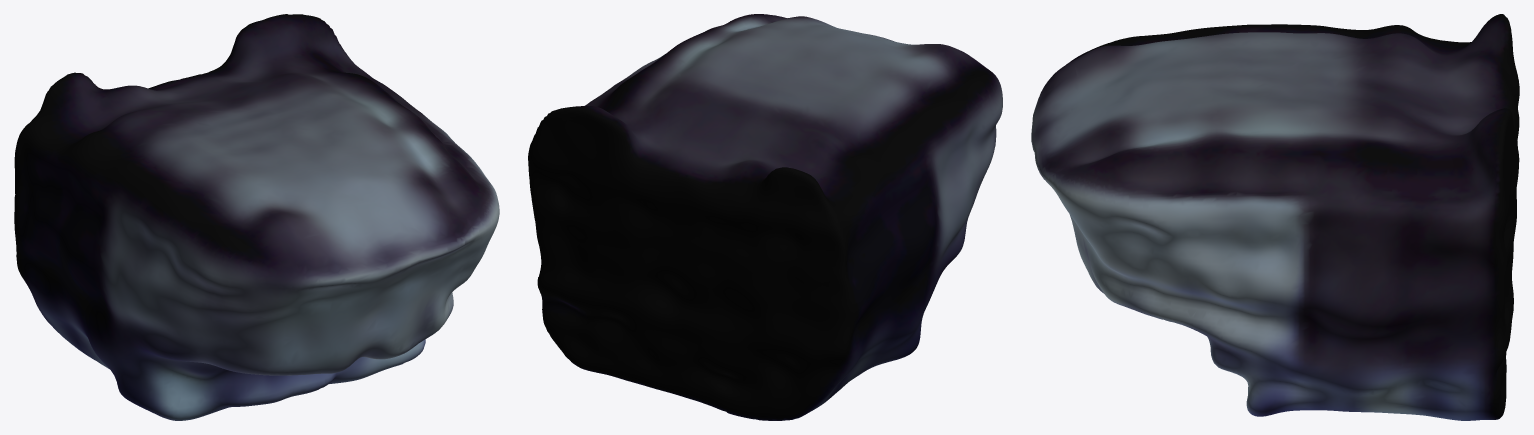
The model's file is backpack.glb.
3 views of the same model, side by side, from view 1: azimuth 30°, elevation 25°; view 2: azimuth 150°, elevation 25°; view 3: azimuth 270°, elevation 25° (orthographic). The views are drawn at different scales.
Bounding box in the file's own units: 0.9073 × 0.6863 × 0.9993.
